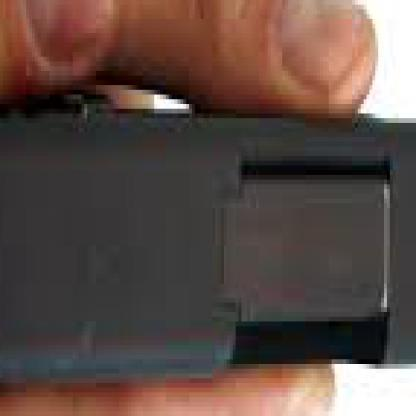gun: (0, 10, 413, 412)
